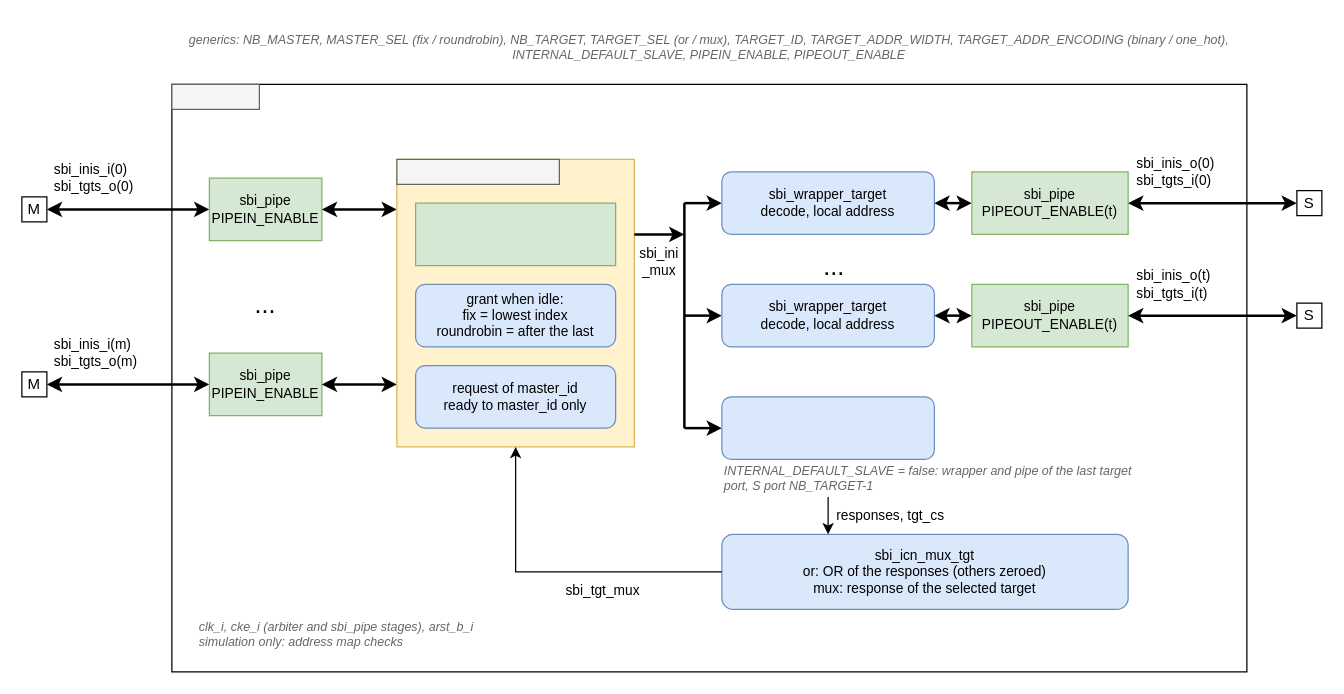
Image size: 1344x694. Some labels were removed from this diagram. Each missing label, with the box of its shape:
busy, master_id rr_ptr (roundrobin): (414, 202, 616, 266)
default slave: cs and not any_cs sbi_default_slave (internal): (721, 396, 934, 459)
sbi_icn: (171, 83, 259, 109)
sbi_icn_mux_mst: (396, 158, 559, 184)
